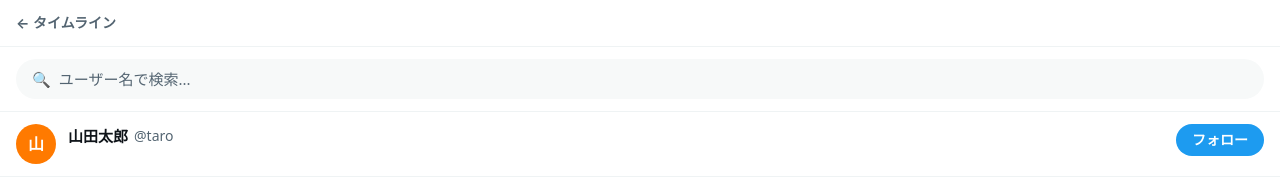
Test case: SearchPage › 状態遷移: フォローすると結果のボタンが「フォロー中」になる
Click the button "フォロー".
click(1220, 140)  # box [1176,124,1264,156]
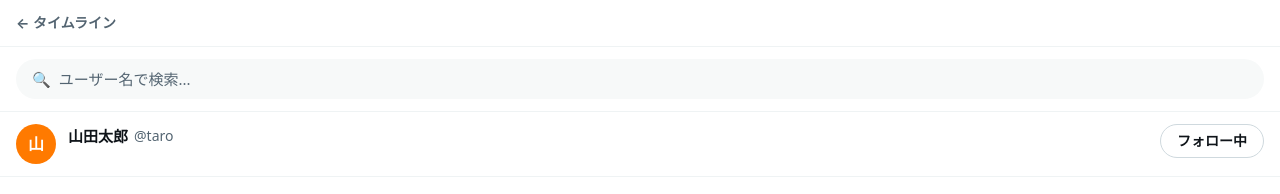
Result: the button "フォロー中" is shown at [1160,124,1264,158]
